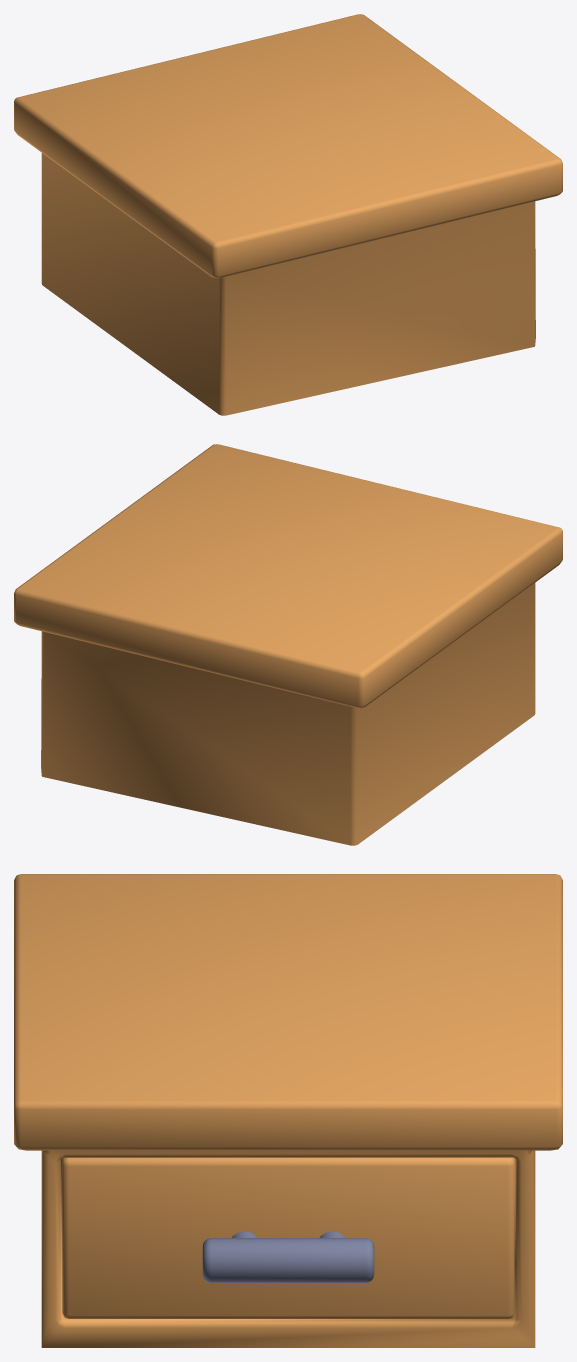
The model's file is SM_Drawer.fbx.
3 views of the same model, one above another, from view 1: azimuth 30°, elevation 25°; view 2: azimuth 150°, elevation 25°; view 3: azimuth 270°, elevation 25° (orthographic). The views are drawn at different scales.
Parts seen in each view (by area): view 1: Drawer; view 2: Drawer; view 3: Drawer.
Boxes of the visible parts, x1,y1,x2,y2 form: Drawer: [14, 14, 562, 415]; Drawer: [14, 444, 562, 845]; Drawer: [14, 874, 562, 1347].
Bounding box in the file's own units: 215 × 104 × 200.
